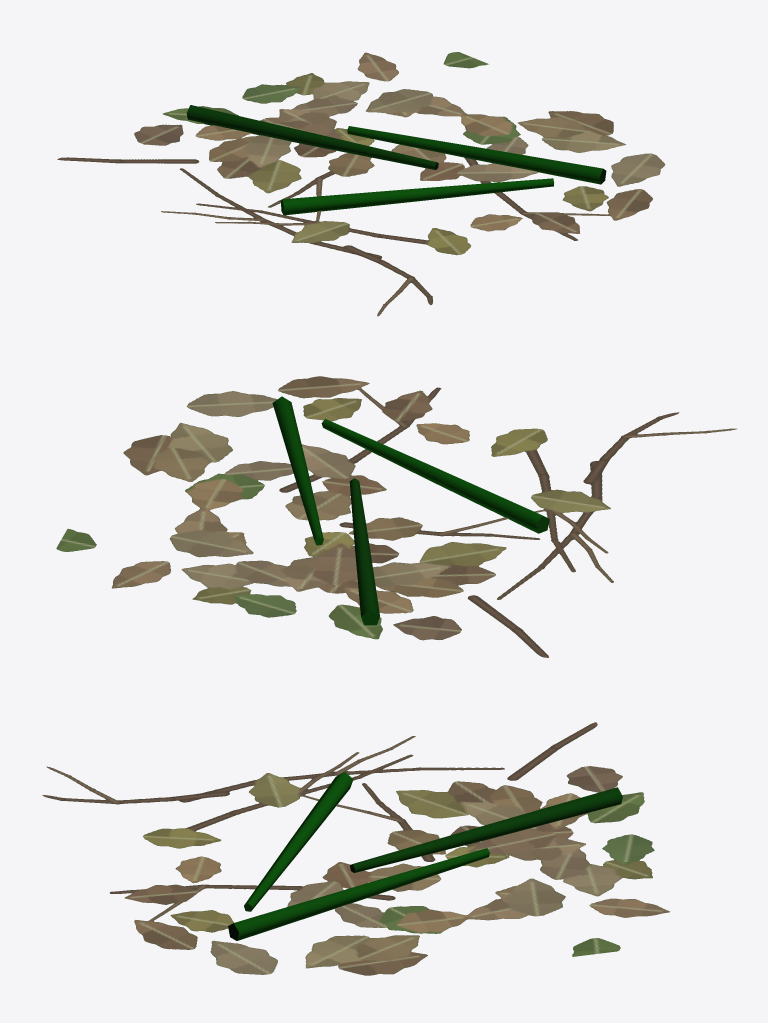
The model's file is SM_Ground_Debris.fbx.
3 renders of one model, top to bottom at view 1: azimuth 30°, elevation 25°; view 2: azimuth 150°, elevation 25°; view 3: azimuth 270°, elevation 25°, orthographic. The views are drawn at different scales.
Visible parts, largest first — view 1: SM_Ground_Debris; view 2: SM_Ground_Debris; view 3: SM_Ground_Debris.
Boxes of the visible parts, x1=… form: SM_Ground_Debris: x1=57, y1=52, x2=665, y2=316; SM_Ground_Debris: x1=56, y1=376, x2=736, y2=657; SM_Ground_Debris: x1=42, y1=722, x2=669, y2=975.
Bounding box in the file's own units: 2.11 × 0.0507 × 2.11.
2 materials, 1 textured.
